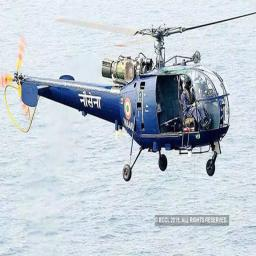helicopter: (1, 7, 245, 189)
